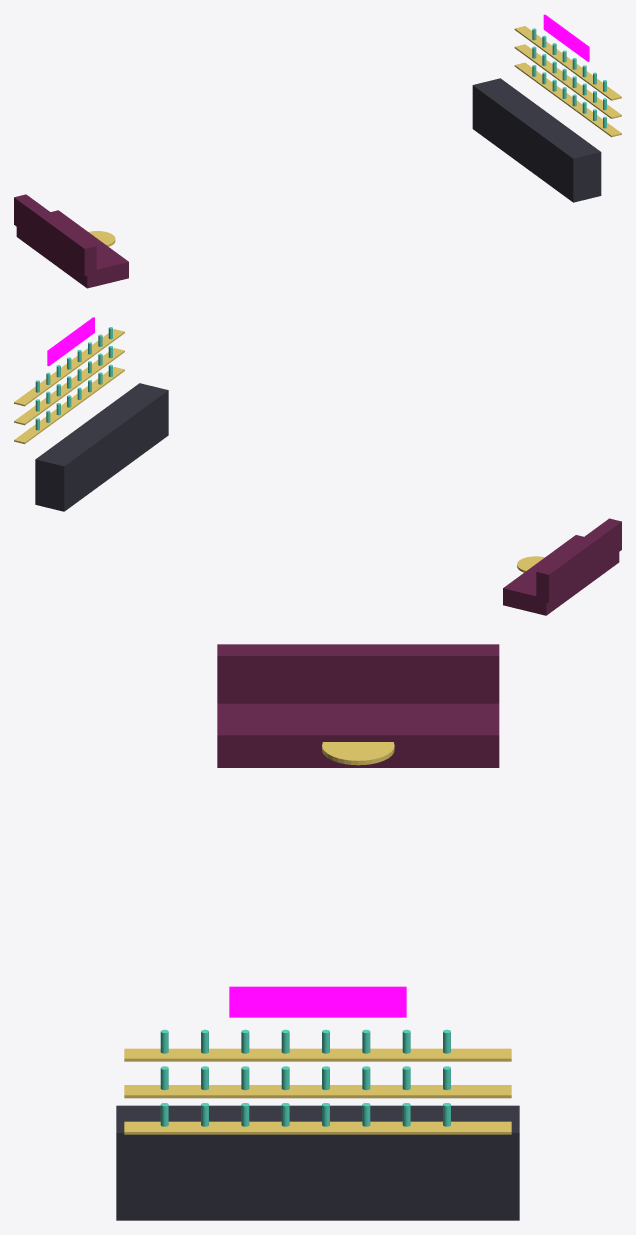
The model's file is club_lounge_bar.glb.
The picture shows the model from 3 angles, top to bottom: view 1: azimuth 30°, elevation 25°; view 2: azimuth 150°, elevation 25°; view 3: azimuth 270°, elevation 25°; orthographic projection. The views are drawn at different scales.
Visible parts, largest first — view 1: Cube.002, Cube.001, Cube, Cube.005, Cube.003, Cube.004, Cube.006; view 2: Cube.002, Cube.001, Cube, Cube.003, Cube.004, Cube.005, Cube.006; view 3: Cube.002, Cube, Cube.001, Cube.006, Cube.004, Cube.005, Cube.003, Cylinder.
Part boxes in pixels (x1,y1,x2,y2): Cube.002: [472, 78, 601, 202]; Cube.001: [14, 194, 96, 276]; Cube: [16, 210, 128, 288]; Cube.005: [514, 26, 621, 100]; Cube.003: [514, 62, 621, 137]; Cube.004: [514, 44, 621, 118]; Cube.006: [543, 14, 589, 61]; Cube.002: [35, 383, 168, 511]; Cube.001: [536, 518, 621, 603]; Cube: [503, 535, 619, 615]; Cube.003: [14, 367, 124, 443]; Cube.004: [14, 348, 124, 425]; Cube.005: [14, 329, 124, 406]; Cube.006: [47, 317, 94, 365]; Cube.002: [116, 1105, 519, 1220]; Cube: [217, 703, 499, 767]; Cube.001: [217, 644, 499, 703]; Cube.006: [229, 986, 406, 1017]; Cube.004: [124, 1085, 511, 1098]; Cube.005: [124, 1048, 511, 1061]; Cube.003: [124, 1121, 511, 1134]; Cylinder: [322, 742, 394, 765].
Bounding box in the file's own units: 14.73 × 3.4 × 5.
